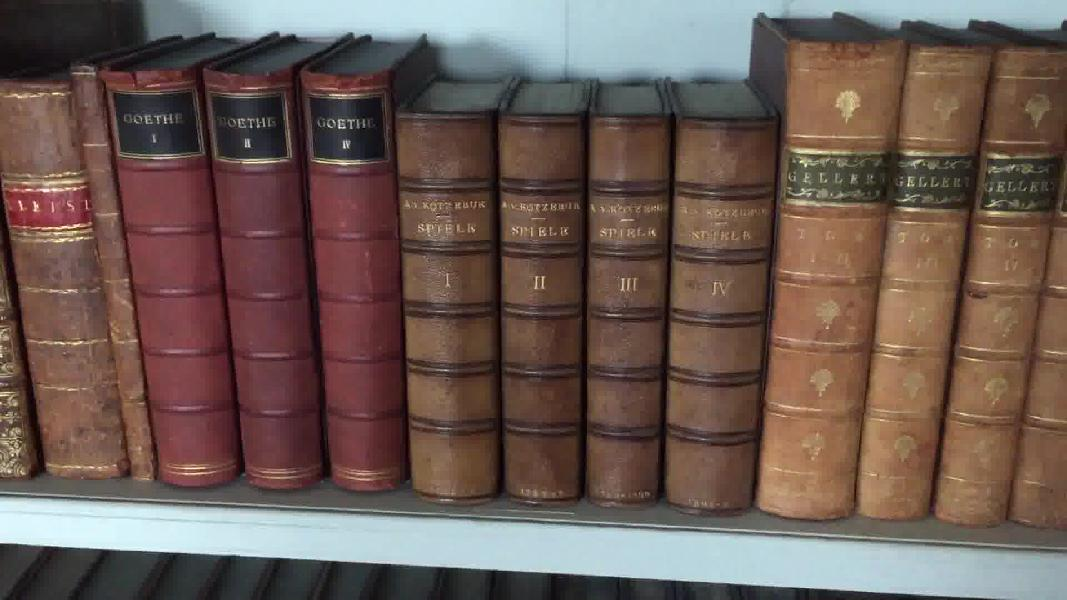Aa6-11_13: (100, 57, 419, 504)
Aa6-14_17: (383, 98, 771, 527)
Aa6-18_23: (763, 27, 1067, 541), (65, 52, 162, 479)
Aa6-9: (9, 70, 120, 484)
